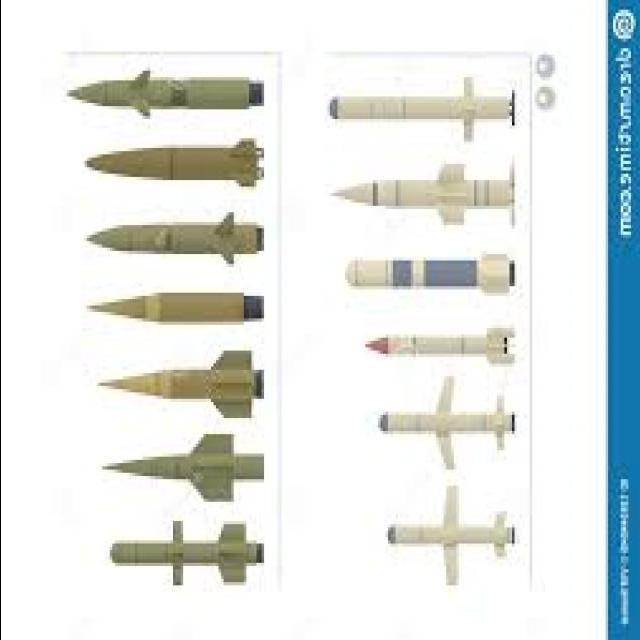Missile: (315, 70, 531, 144), (54, 56, 264, 120), (82, 208, 284, 274), (341, 238, 518, 312), (69, 134, 271, 197), (345, 316, 518, 374)
